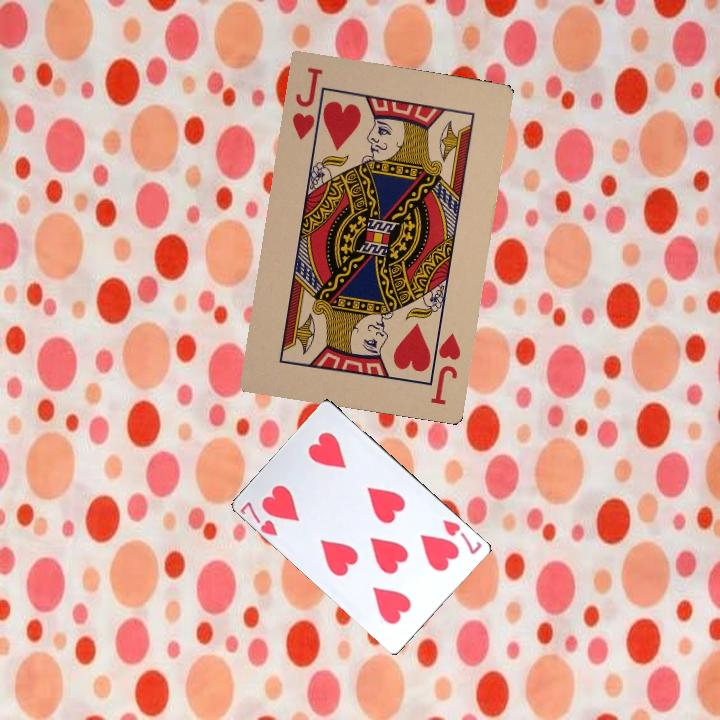7h: (438, 515, 485, 557), (236, 497, 280, 539)
Jh: (288, 63, 329, 147), (423, 327, 463, 408)
